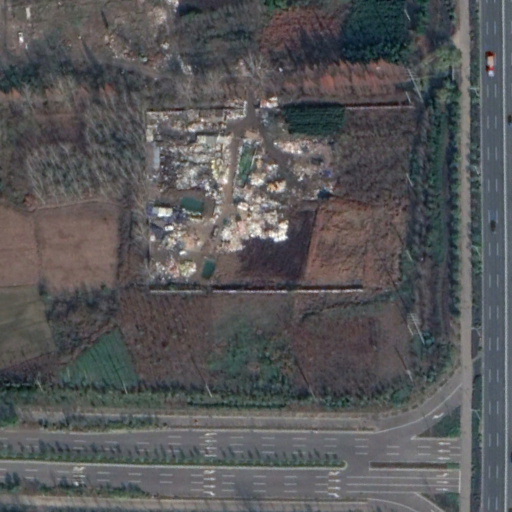msw: (146, 110, 332, 279)
